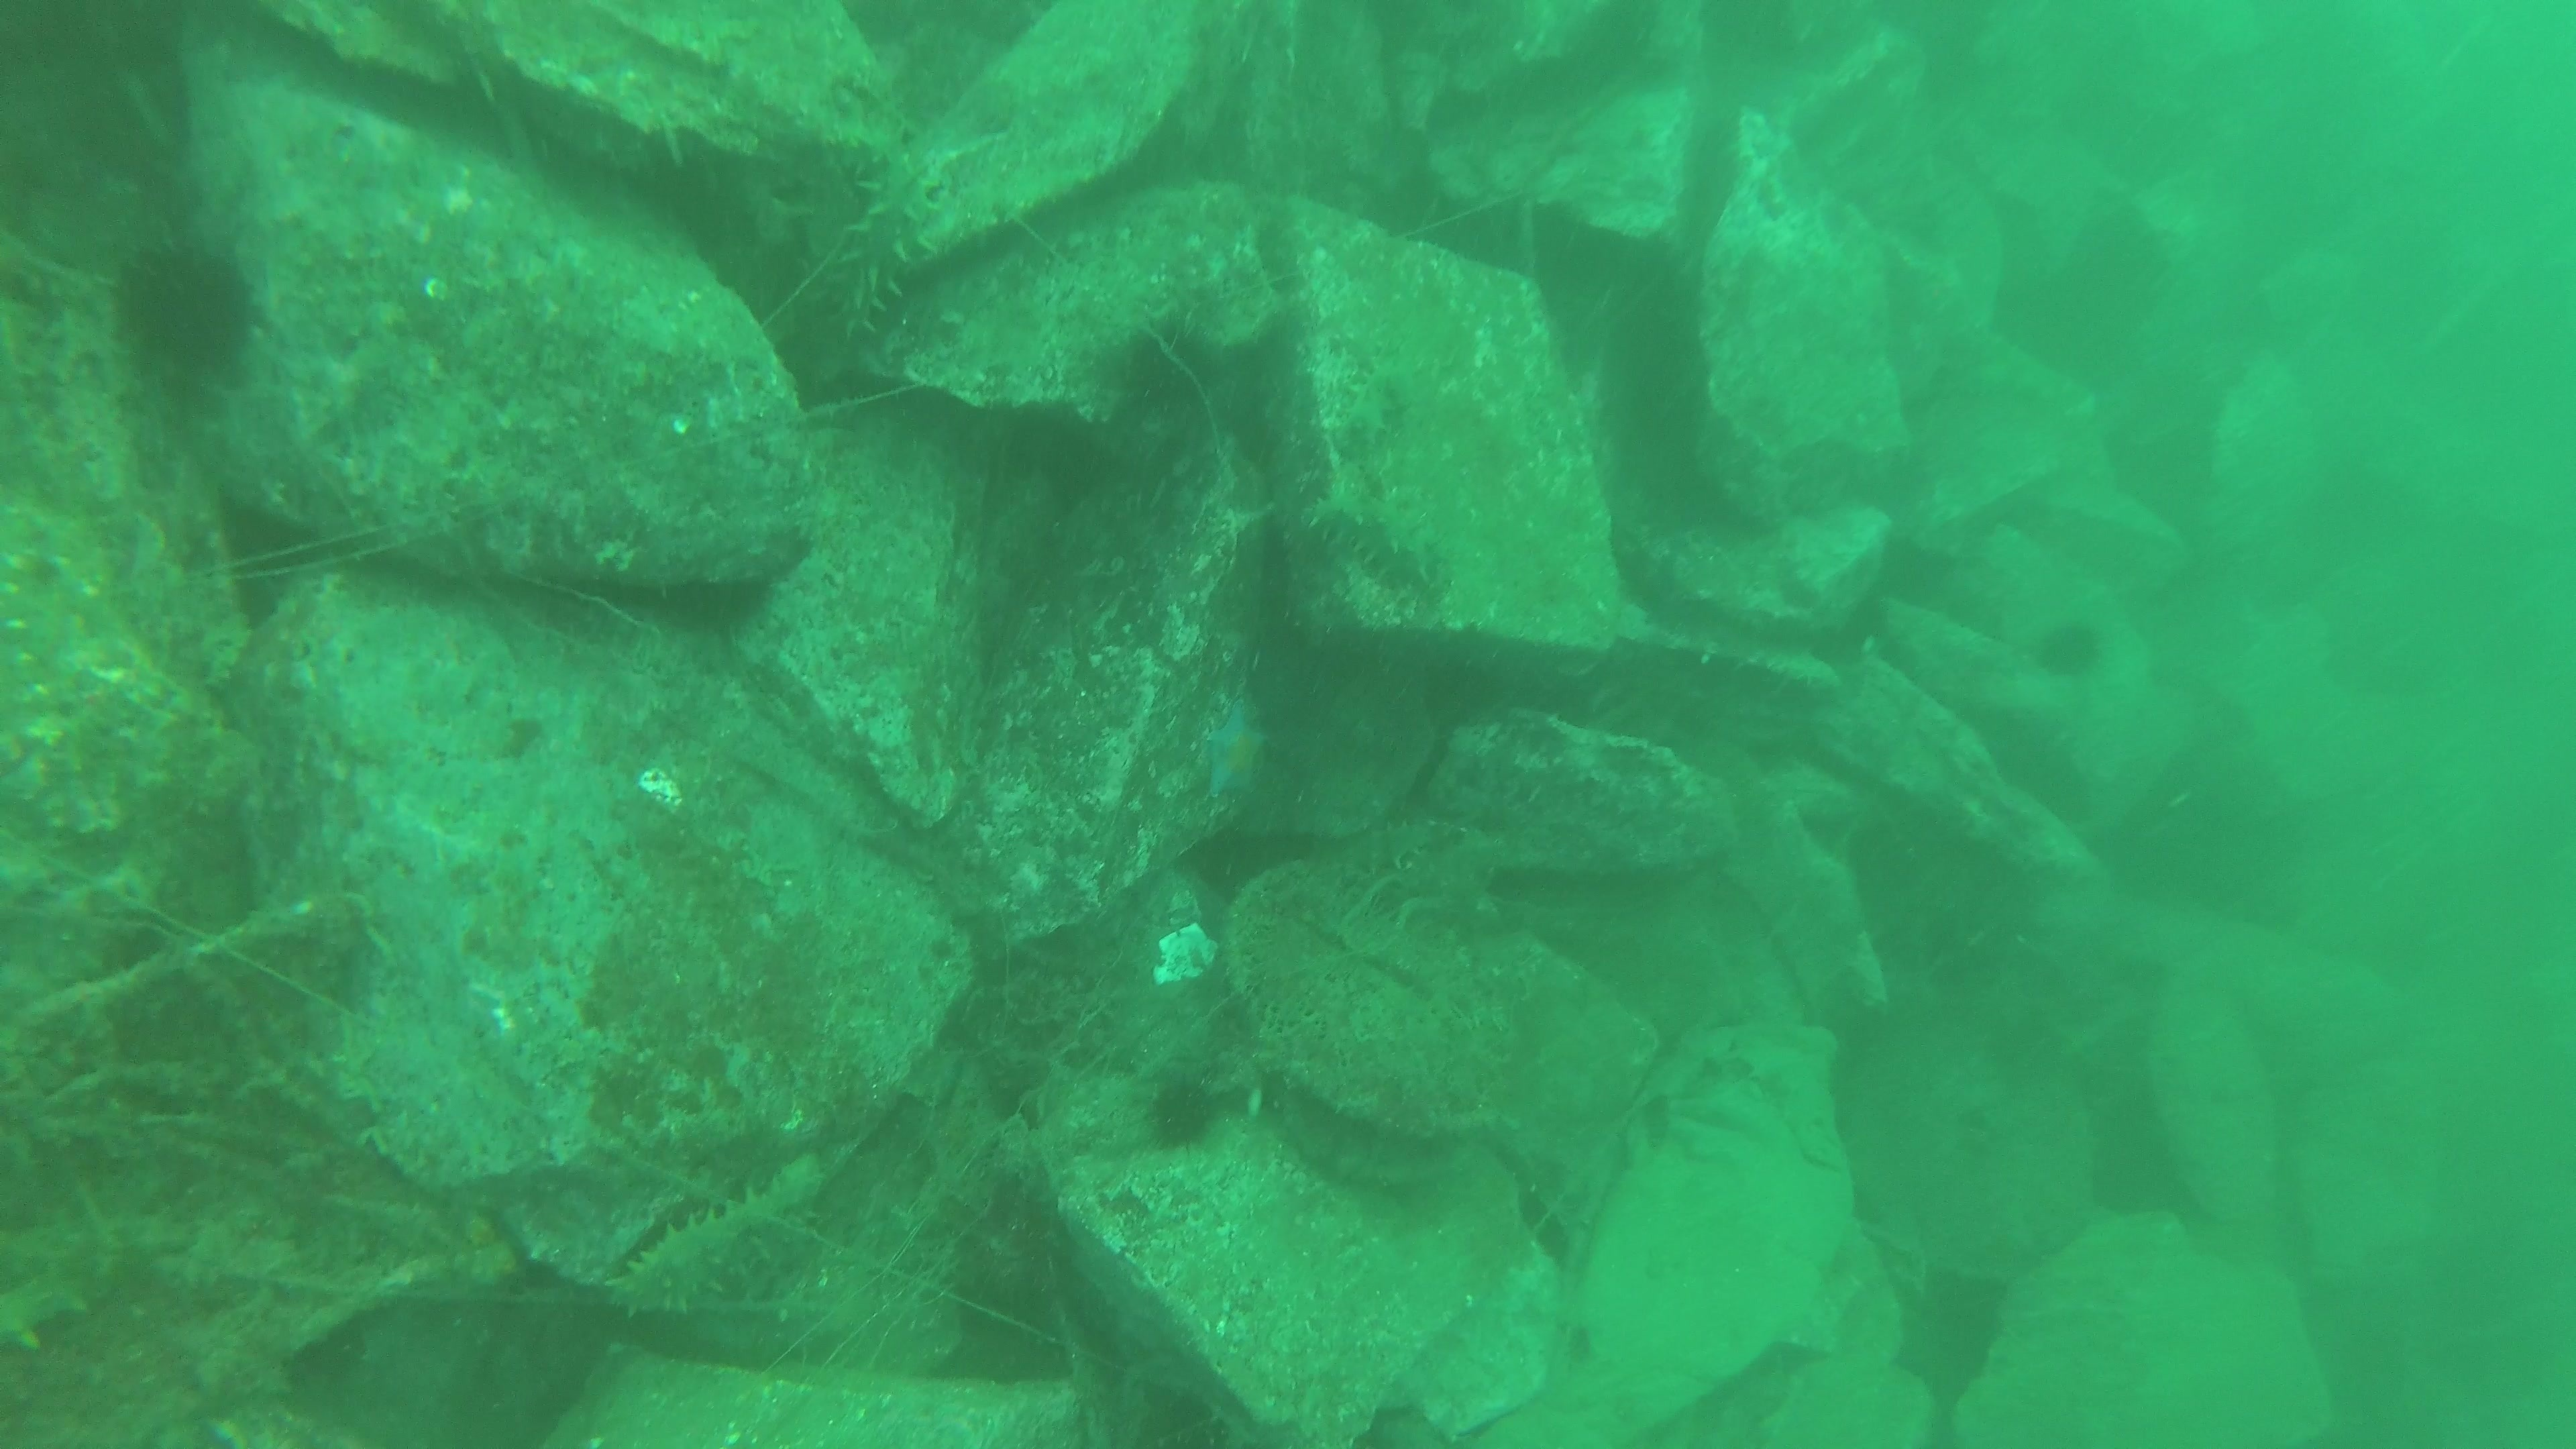echinus: (103, 234, 265, 393), (1136, 1067, 1230, 1159), (2028, 610, 2112, 685)
holothurian: (600, 1164, 833, 1327), (812, 124, 947, 363), (1295, 492, 1444, 617), (1304, 349, 1408, 460)
starfish: (1185, 688, 1276, 814)
